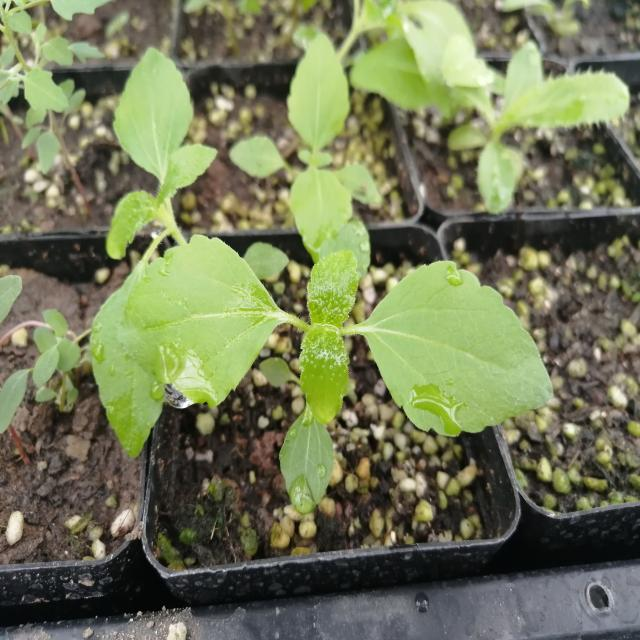billygoat_weed: (187, 246, 541, 483), (103, 45, 232, 465), (238, 32, 377, 252)
